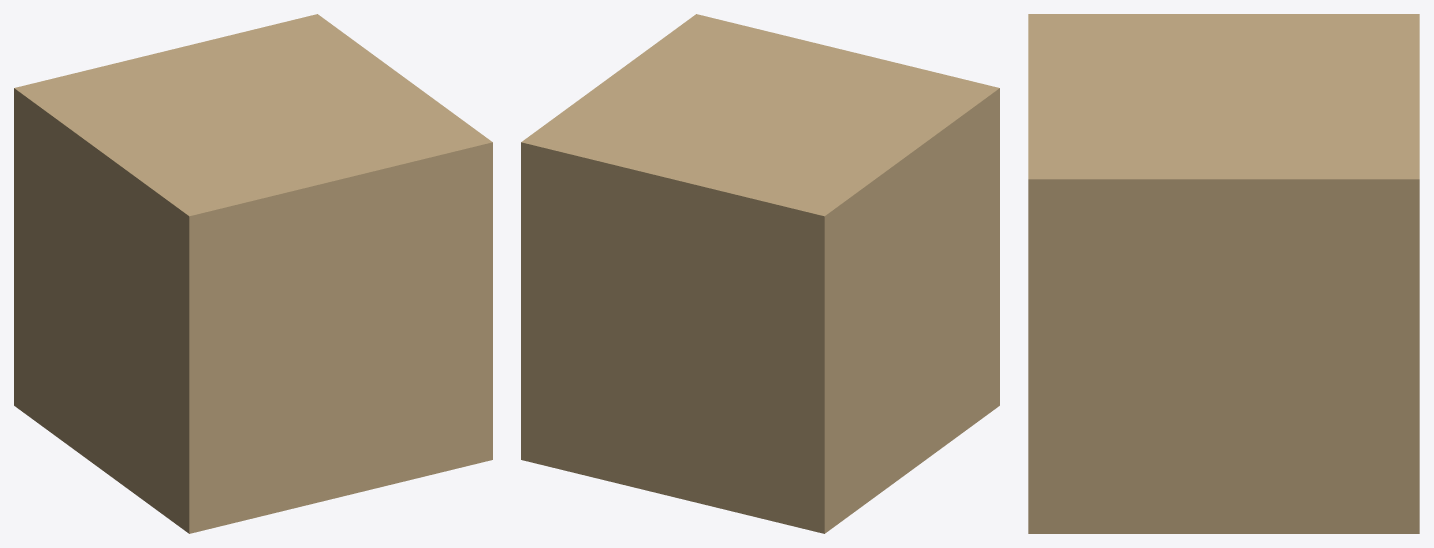
File: 36_fence.glb
3 views of the same model, side by side, from view 1: azimuth 30°, elevation 25°; view 2: azimuth 150°, elevation 25°; view 3: azimuth 270°, elevation 25° (orthographic). The views are drawn at different scales.
Visible parts, largest first — view 1: Core, Post_-0.38; view 2: Core, Post_0.38, Post_-0.38; view 3: Core.
Part boxes in pixels (x1=…): Core: x1=14, y1=14, x2=492, y2=533; Post_-0.38: x1=206, y1=341, x2=245, y2=390; Core: x1=521, y1=14, x2=999, y2=533; Post_0.38: x1=538, y1=285, x2=577, y2=334; Post_-0.38: x1=768, y1=341, x2=807, y2=390; Core: x1=1028, y1=14, x2=1419, y2=533.
Bounding box in the file's own units: 1 × 1 × 1.
